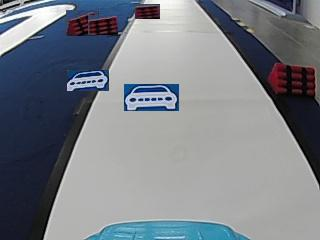bomb: (269, 63, 316, 94)
